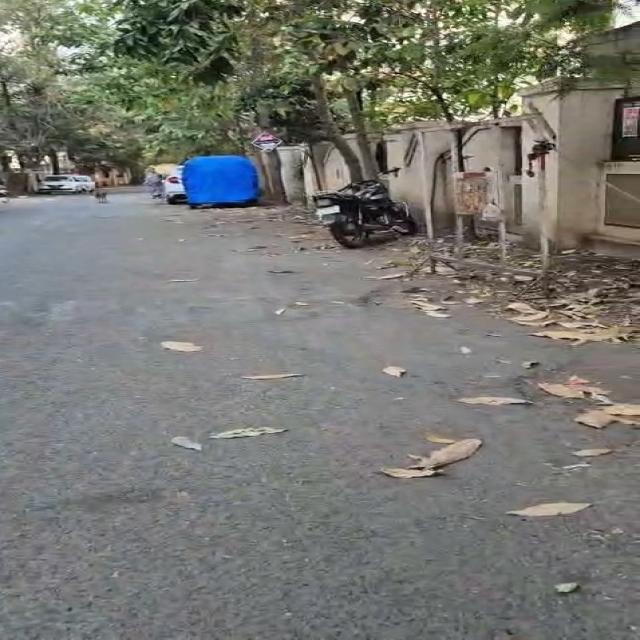obstacle: (418, 132, 435, 241)
vehicle: (314, 180, 417, 248), (0, 185, 9, 203)
